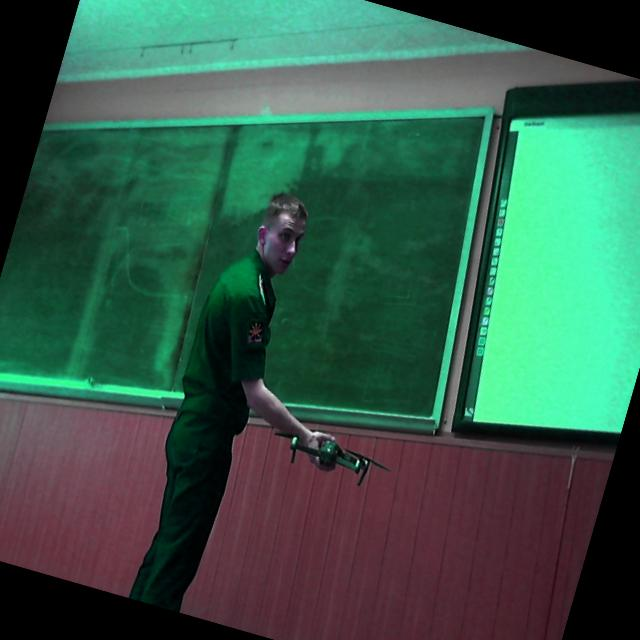drone: (255, 406, 409, 511)
